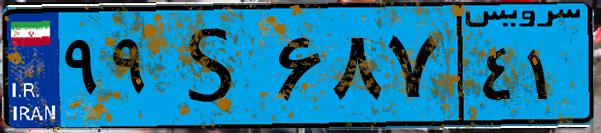1: (525, 38, 570, 115)
4: (475, 38, 525, 113)
6: (270, 28, 330, 110)
7: (385, 28, 445, 110)
8: (330, 28, 385, 110)
9: (57, 26, 110, 100), (110, 28, 158, 98)
S: (158, 12, 270, 120)
